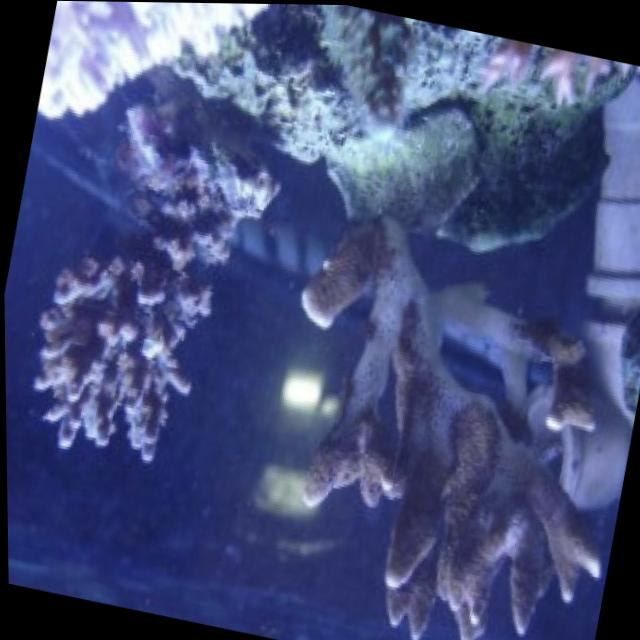Bleached Coral: (32, 0, 280, 167)
Healthy Coral: (238, 200, 640, 640), (13, 122, 284, 482)
